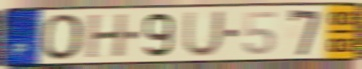5: (242, 10, 278, 56)
7: (288, 8, 321, 57)
9: (143, 12, 175, 58)
H: (84, 12, 130, 61)
O: (41, 12, 85, 62)
U: (181, 9, 227, 58)
